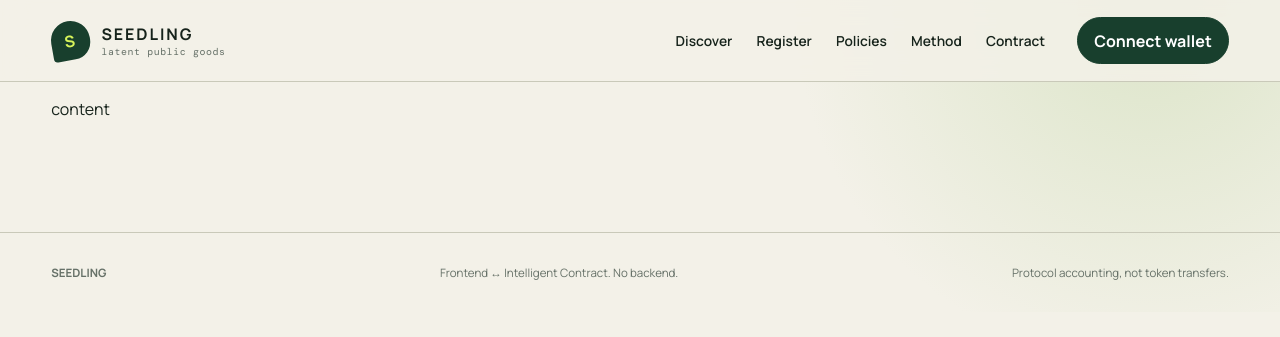
Test: empty, wallet, and network states › tells the visitor when no browser wallet is installed
What coordinates should you click on to do the following:
click the button "Connect wallet"
I would click on:
 (1153, 40)
Its box is [1077,17,1229,64].
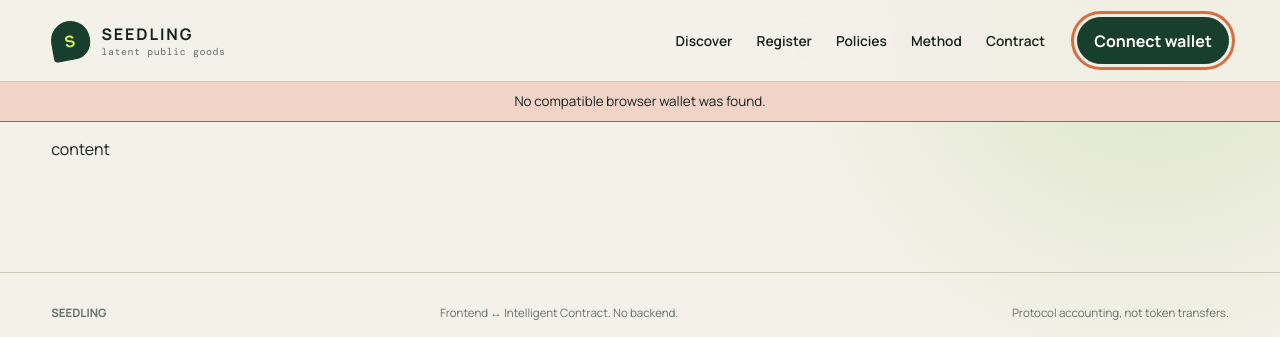
Expected: the message reads "No compatible browser wallet was found.", [514,92,766,110]
